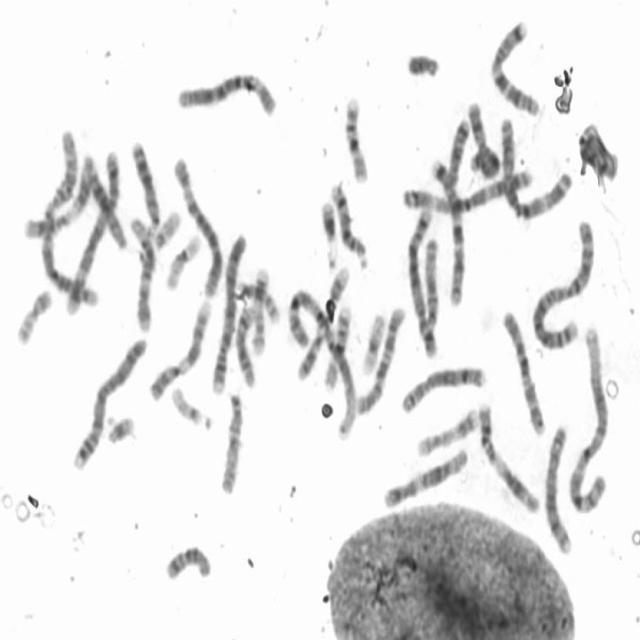A1: (285, 283, 360, 443), (564, 317, 612, 518)
A2: (35, 131, 104, 309), (529, 212, 598, 352)
A3: (497, 111, 574, 222), (396, 162, 536, 216)
B4: (68, 331, 149, 474), (208, 225, 249, 396)
B5: (62, 143, 124, 316), (403, 199, 440, 360)
C10: (498, 302, 548, 438), (353, 300, 407, 416)
C11: (474, 395, 544, 516), (20, 152, 97, 240)
C12: (378, 440, 470, 510), (126, 211, 156, 334)
C6: (169, 149, 225, 299), (174, 65, 280, 119)
C7: (428, 152, 468, 307), (486, 13, 543, 118)
C8: (397, 357, 488, 416), (540, 417, 576, 556)
C9: (145, 293, 213, 403), (295, 258, 353, 384)
D13: (80, 150, 130, 252), (127, 132, 162, 234)
D14: (326, 173, 372, 272), (232, 299, 258, 389)
D15: (217, 384, 246, 496), (421, 232, 441, 331)
E16: (320, 299, 354, 393), (340, 90, 370, 184)
E17: (413, 400, 482, 458), (248, 260, 271, 357)
E18: (161, 538, 215, 584), (443, 112, 471, 187)
F19: (162, 227, 204, 292), (358, 306, 388, 376)
F20: (12, 282, 54, 348), (233, 280, 281, 326)
G21: (317, 194, 339, 270), (103, 408, 137, 448)
G22: (167, 379, 216, 432), (151, 204, 183, 251)
X: (462, 95, 502, 180)
Y: (403, 46, 442, 80)
